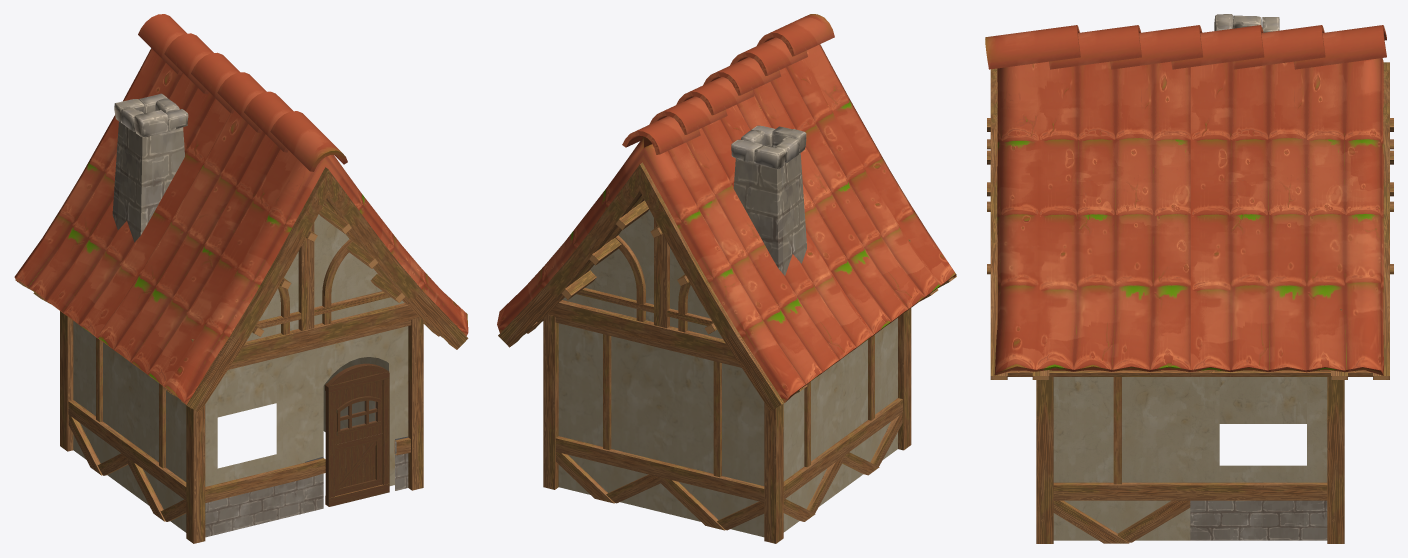
The model's file is maison_a.gltf.
3 views of the same model, side by side, from view 1: azimuth 30°, elevation 25°; view 2: azimuth 150°, elevation 25°; view 3: azimuth 270°, elevation 25° (orthographic). The views are drawn at different scales.
Visible parts, largest first — view 1: maison_a2; view 2: maison_a2; view 3: maison_a2.
Part boxes in pixels (x1,y1,x2,y2): maison_a2: [14, 14, 468, 543]; maison_a2: [497, 14, 956, 543]; maison_a2: [985, 14, 1393, 543].
Bounding box in the file's own units: 5.51 × 6.86 × 5.62.
6 materials, 5 textured.
